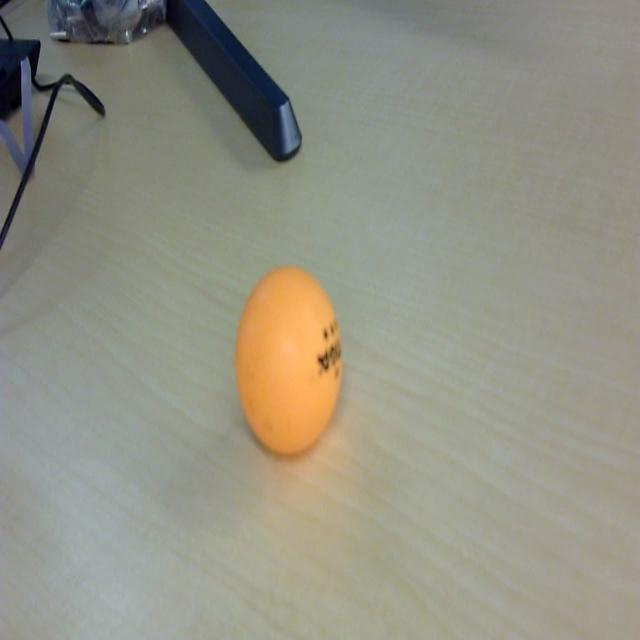ball: (234, 267, 344, 458)
